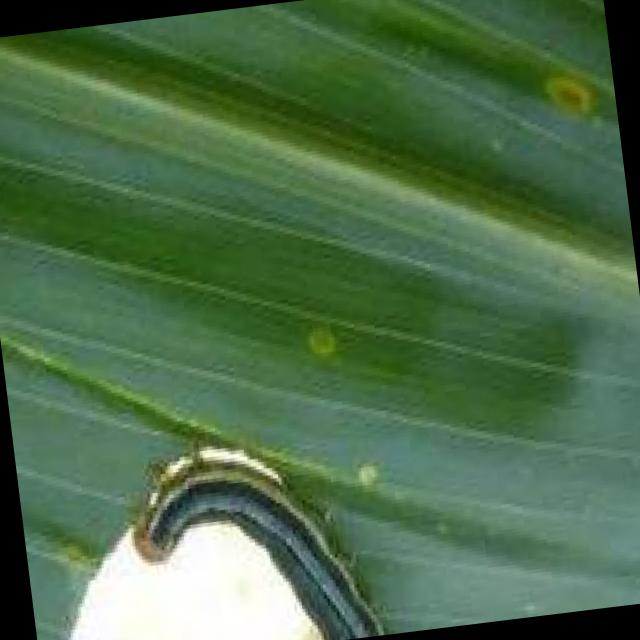armyworm: (110, 412, 405, 640)
